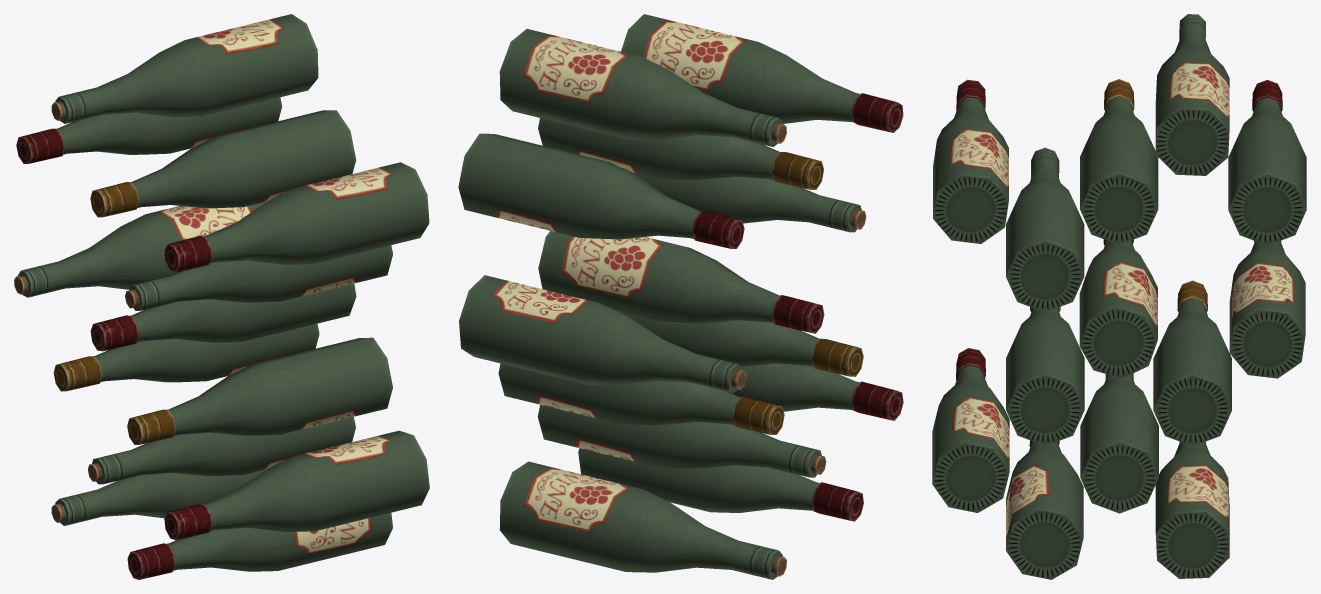
Rendered from LOD1_bottles_wineCabinet_2.fbx.
The picture shows the model from 3 angles, left to right: view 1: azimuth 30°, elevation 25°; view 2: azimuth 150°, elevation 25°; view 3: azimuth 270°, elevation 25°; orthographic projection. The views are drawn at different scales.
Parts seen in each view (by area): view 1: LOD1_bottles_wineCabinet_2; view 2: LOD1_bottles_wineCabinet_2; view 3: LOD1_bottles_wineCabinet_2.
Boxes of the visible parts, bbox=[...] form: LOD1_bottles_wineCabinet_2: bbox=[14, 14, 429, 579]; LOD1_bottles_wineCabinet_2: bbox=[458, 14, 903, 579]; LOD1_bottles_wineCabinet_2: bbox=[932, 14, 1306, 579].
Size of the model in its own units: 0.3339 by 0.6146 by 0.4429.
